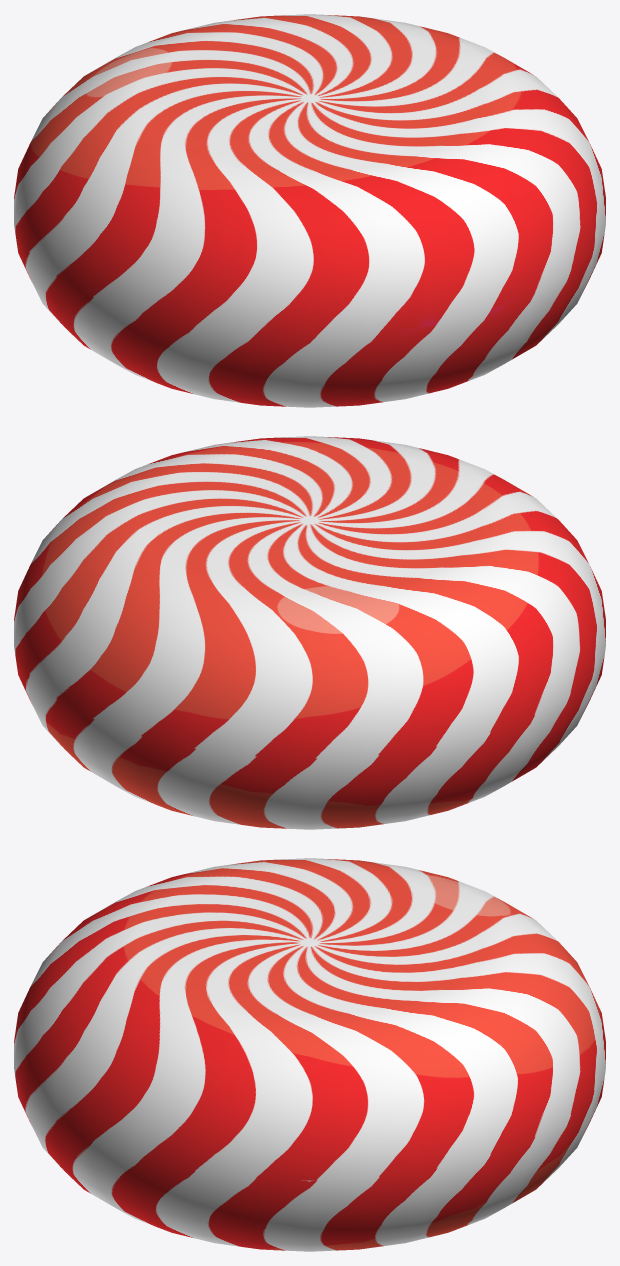
The model's file is Peppermint.glb.
The picture shows the model from 3 angles, top to bottom: view 1: azimuth 30°, elevation 25°; view 2: azimuth 150°, elevation 25°; view 3: azimuth 270°, elevation 25°; orthographic projection.
Visible parts, largest first — view 1: Peppermint_Twist_1.002; view 2: Peppermint_Twist_1.002; view 3: Peppermint_Twist_1.002.
Part boxes in pixels (x1=…): Peppermint_Twist_1.002: x1=14, y1=14, x2=605, y2=407; Peppermint_Twist_1.002: x1=14, y1=436, x2=605, y2=829; Peppermint_Twist_1.002: x1=14, y1=858, x2=605, y2=1251.
Bounding box in the file's own units: 0.12 × 0.05 × 0.1193.
1 material, 1 textured.
